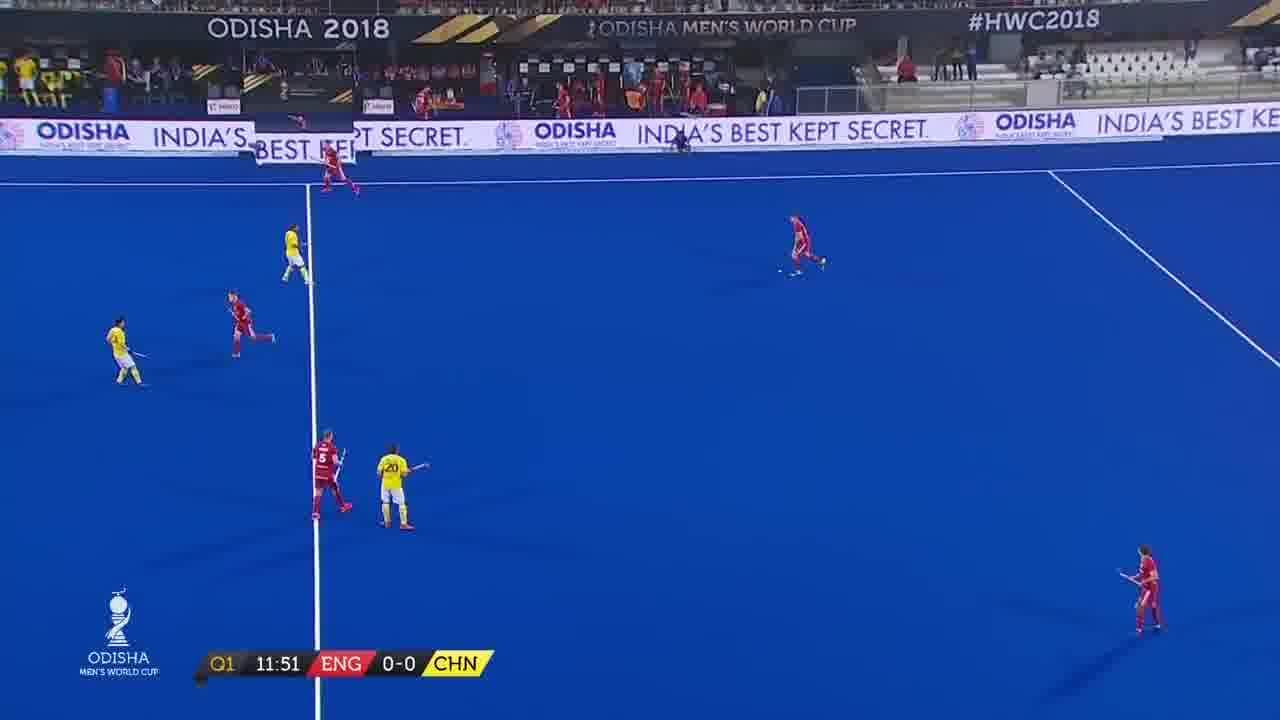ball: (774, 267, 787, 276)
